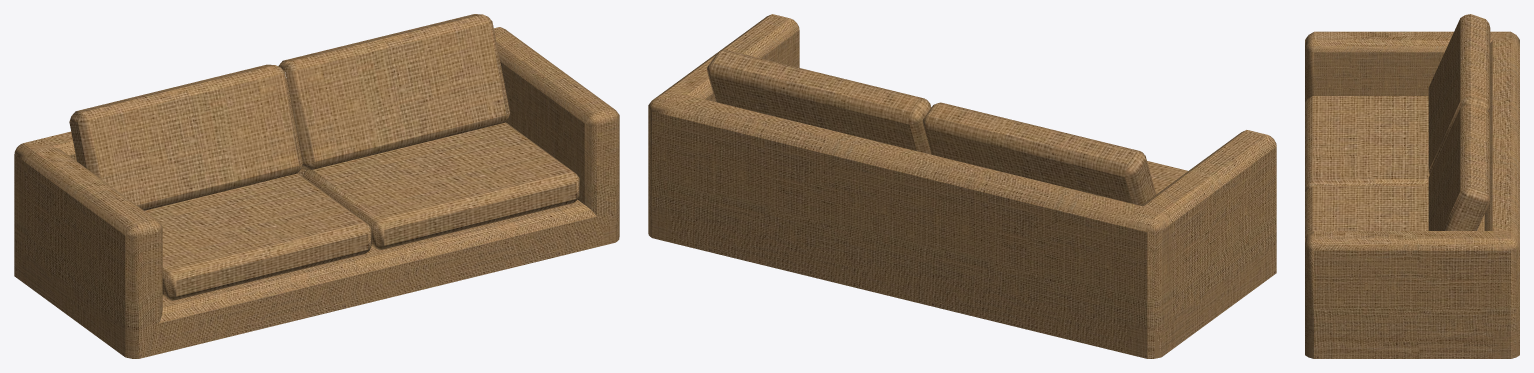
The model's file is Sofa_MP.glb.
3 renders of one model, left to right at view 1: azimuth 30°, elevation 25°; view 2: azimuth 150°, elevation 25°; view 3: azimuth 270°, elevation 25°, orthographic. The views are drawn at different scales.
Parts seen in each view (by area): view 1: Sofa_MP, BackCushion01, BackCushion3, SeatCushion01, SeatCushion02; view 2: Sofa_MP, BackCushion3, BackCushion01, SeatCushion02; view 3: Sofa_MP, SeatCushion02, BackCushion01, BackCushion3, SeatCushion01.
Boxes of the visible parts, x1,y1,x2,y2 form: Sofa_MP: (14, 27, 619, 358); BackCushion01: (278, 14, 510, 169); BackCushion3: (69, 64, 302, 210); SeatCushion01: (303, 122, 579, 250); SeatCushion02: (144, 173, 371, 300); Sofa_MP: (648, 14, 1276, 358); BackCushion3: (922, 102, 1155, 205); BackCushion01: (707, 50, 931, 154); SeatCushion02: (1147, 161, 1187, 194); Sofa_MP: (1305, 31, 1519, 358); SeatCushion02: (1305, 96, 1429, 192); BackCushion01: (1428, 104, 1490, 230); BackCushion3: (1428, 14, 1490, 174); SeatCushion01: (1305, 186, 1428, 237).
Size of the model in its own units: 3.81 by 1.25 by 1.61.
Materials: 1 (1 with a texture image).
